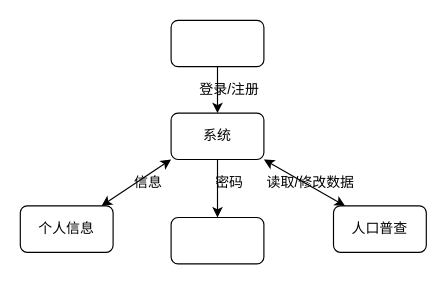
This 447x284 diagram has some shape labels left out. The centre of each missing label's shape, as x and y in pixels:
"修改密码" goes at point 217,240.
"用户" goes at point 217,43.
